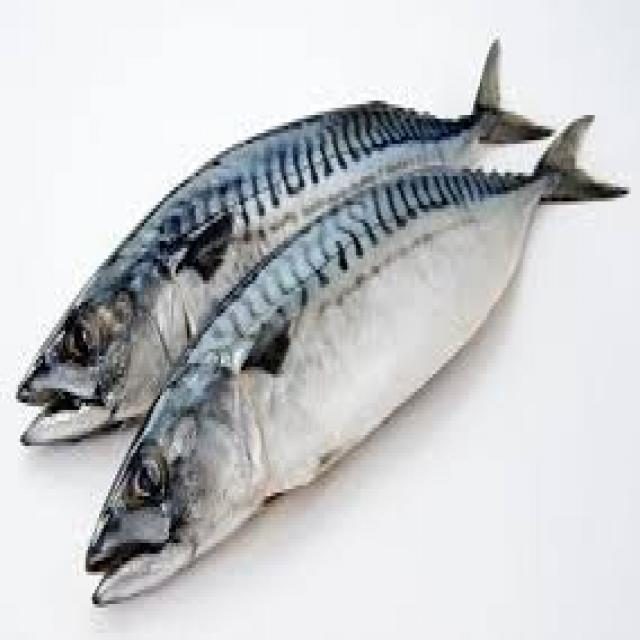fish: (86, 116, 630, 604), (20, 43, 554, 444)
